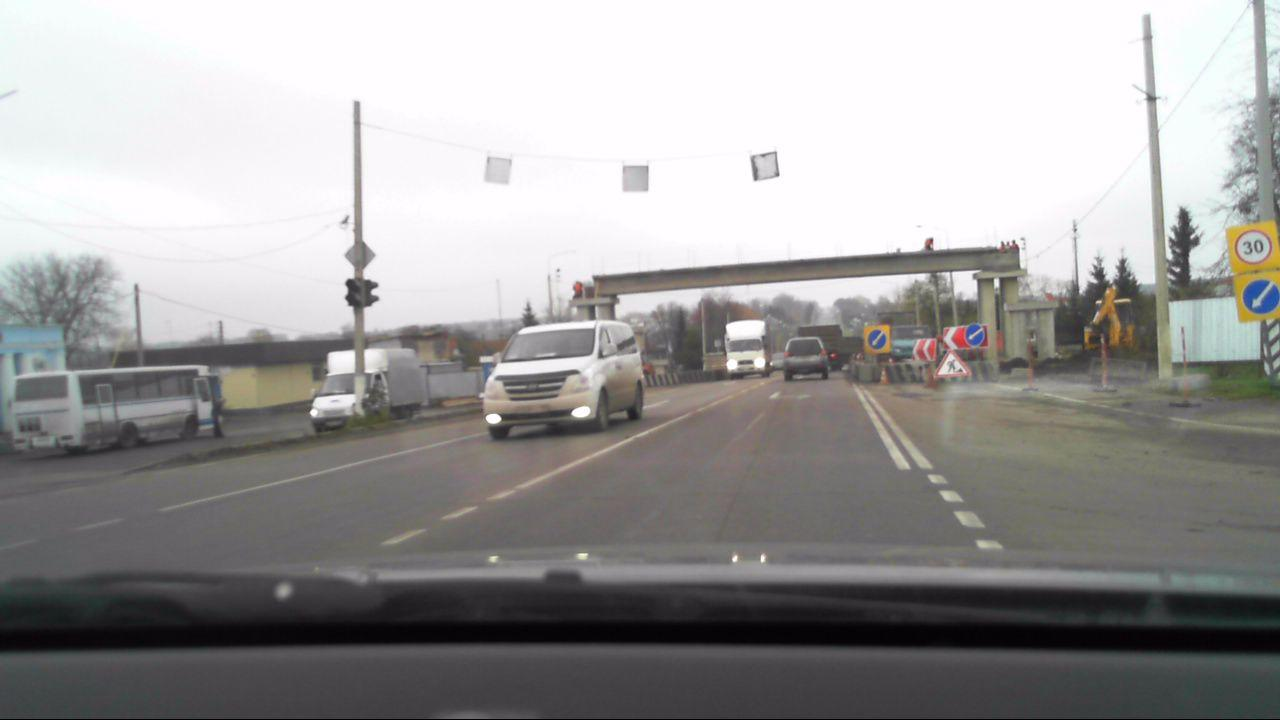1_25: (934, 347, 970, 380)
3_24: (1236, 228, 1272, 265)
4_2_2: (1233, 277, 1279, 321), (964, 323, 985, 349), (868, 330, 889, 351)
